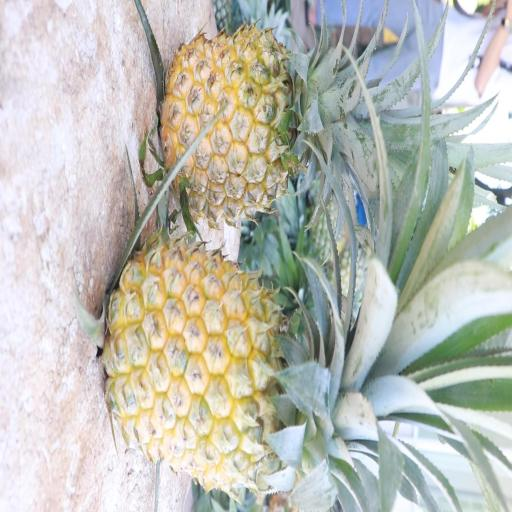Pineapple - v8 v1: (96, 240, 388, 495), (155, 23, 363, 236), (216, 154, 226, 158), (223, 112, 232, 112)
